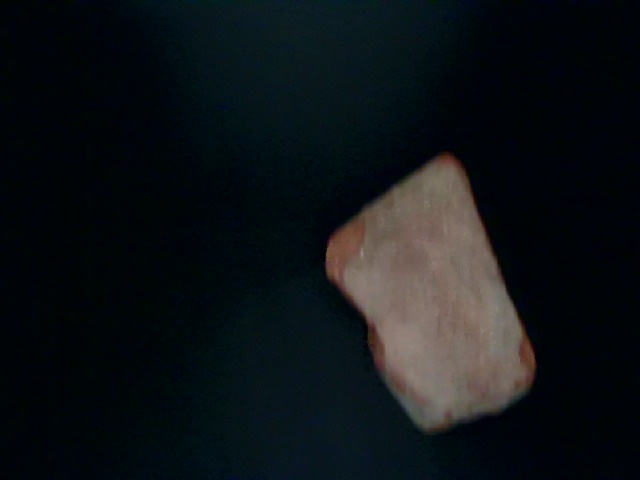KHSLJ: (1, 221, 300, 475)
